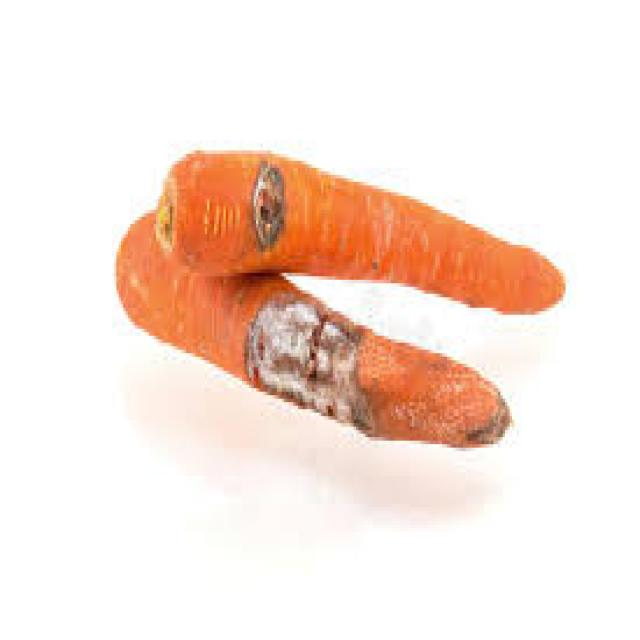Pomogrenate: (155, 154, 565, 311)
Stale_Carrot: (117, 214, 510, 446), (155, 154, 565, 311)
